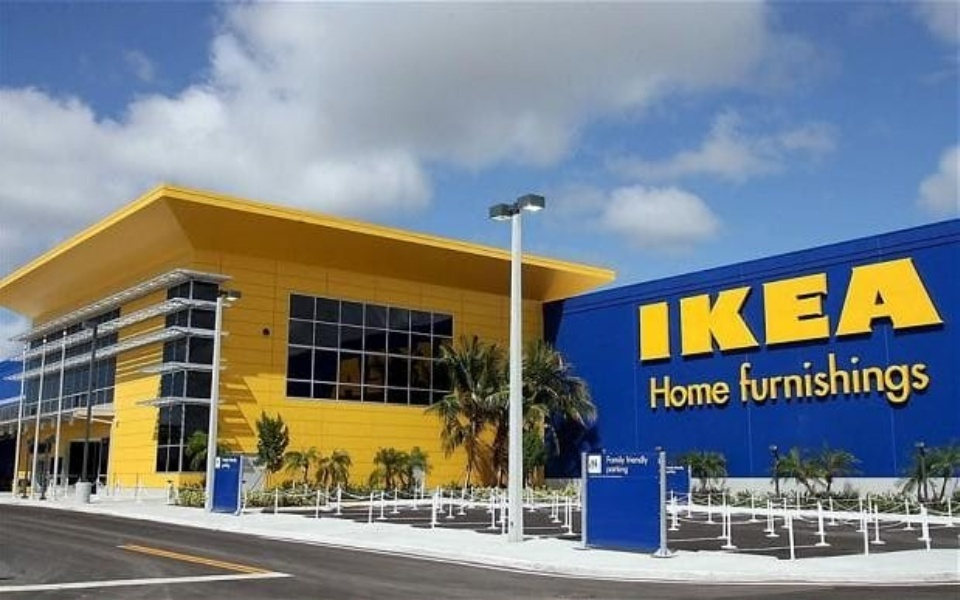text: (641, 253, 656, 365), (657, 253, 672, 365), (673, 253, 688, 365), (689, 253, 704, 365), (705, 253, 720, 365), (721, 253, 736, 365), (737, 253, 752, 365), (753, 253, 768, 365), (769, 253, 784, 365), (785, 253, 800, 365), (801, 253, 816, 365), (817, 253, 832, 365), (833, 253, 848, 365), (849, 253, 864, 365), (865, 253, 880, 365), (881, 253, 896, 365), (897, 253, 912, 365), (913, 253, 928, 365), (929, 253, 944, 365), (737, 345, 752, 410), (753, 345, 768, 410), (769, 345, 784, 410), (785, 345, 800, 410), (801, 345, 816, 410), (817, 345, 832, 410), (833, 345, 848, 410), (849, 345, 864, 410), (865, 345, 880, 410), (881, 345, 896, 410), (897, 345, 912, 410), (913, 345, 928, 410), (945, 253, 951, 365), (657, 373, 672, 410), (673, 373, 688, 410), (689, 373, 704, 410), (705, 373, 720, 410), (721, 373, 731, 410), (609, 453, 624, 476), (625, 453, 640, 476), (929, 345, 933, 410), (649, 373, 656, 410), (638, 253, 640, 365), (641, 453, 650, 476), (593, 455, 601, 470), (585, 455, 592, 470), (604, 453, 608, 476)
